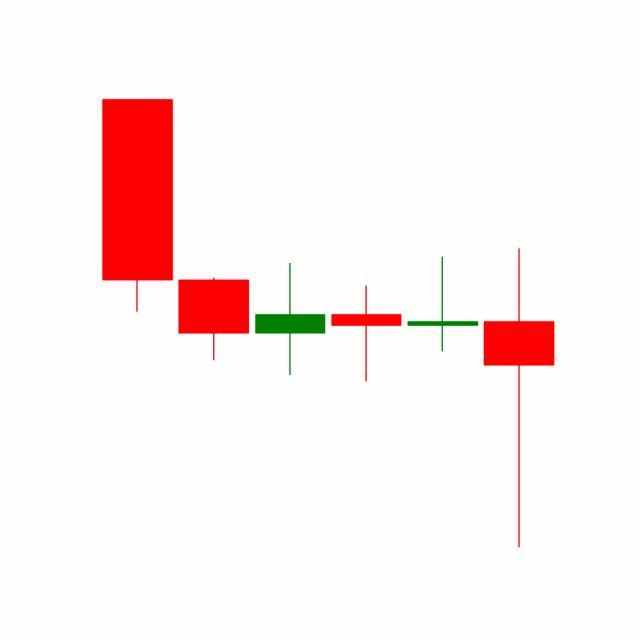Spinning Top: (404, 255, 482, 353)
